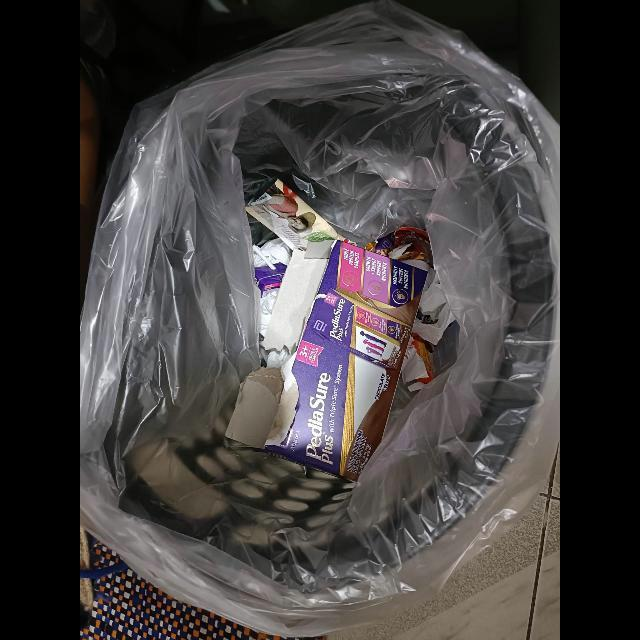cardboard: (226, 240, 427, 483)
food_wrapper: (246, 177, 338, 252)
